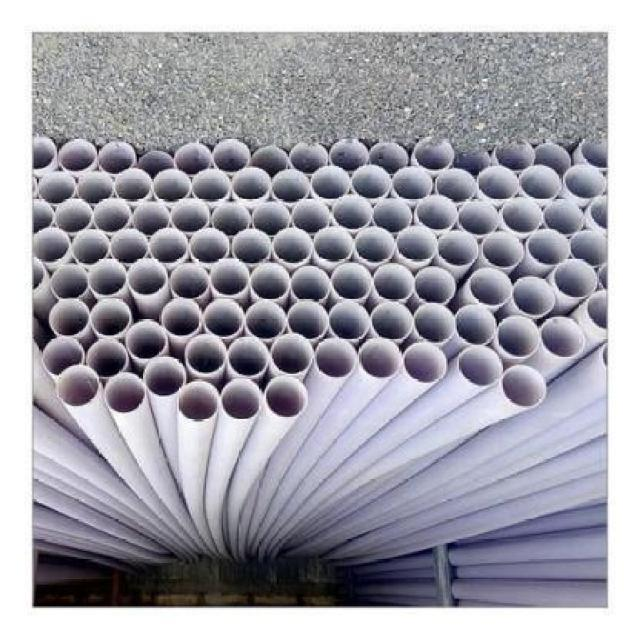pipe: (502, 365, 547, 408), (495, 314, 540, 357), (540, 315, 585, 357), (103, 372, 146, 414), (56, 365, 99, 407), (125, 318, 168, 360), (459, 346, 504, 386), (359, 339, 404, 379), (222, 378, 264, 420), (266, 375, 308, 417), (288, 298, 330, 340), (552, 260, 597, 299), (179, 380, 220, 422), (403, 343, 446, 383), (314, 339, 357, 379), (185, 334, 227, 374), (271, 334, 313, 374), (414, 303, 456, 343), (511, 277, 554, 316), (470, 266, 513, 305), (328, 302, 370, 341), (371, 302, 413, 341), (245, 302, 287, 341), (89, 297, 131, 336), (249, 262, 291, 301), (143, 357, 186, 395), (42, 337, 85, 375), (526, 229, 571, 265), (456, 305, 496, 345), (87, 338, 128, 377), (204, 298, 245, 337), (161, 298, 202, 337), (416, 194, 459, 231), (374, 263, 414, 302), (331, 262, 371, 301), (228, 337, 269, 375), (48, 299, 90, 336), (414, 266, 456, 303), (395, 225, 437, 262), (482, 232, 525, 268), (437, 229, 480, 265), (457, 200, 499, 236), (520, 165, 562, 201), (563, 164, 606, 199), (354, 228, 396, 263), (500, 197, 542, 232), (434, 168, 476, 203), (169, 262, 208, 299), (289, 266, 329, 302), (86, 260, 126, 296), (128, 260, 168, 296), (209, 260, 249, 296), (314, 226, 354, 262), (542, 200, 584, 234), (391, 166, 433, 200), (477, 166, 519, 200), (33, 226, 71, 263), (132, 200, 171, 236), (108, 228, 148, 263), (231, 228, 271, 263), (189, 228, 229, 263), (273, 228, 313, 263), (189, 169, 231, 202), (412, 138, 454, 171), (569, 231, 606, 268), (149, 228, 188, 263), (373, 199, 413, 233), (333, 196, 373, 230), (271, 169, 311, 203), (151, 169, 191, 203), (311, 166, 351, 200), (351, 165, 391, 199), (71, 229, 108, 265), (49, 265, 88, 299), (252, 202, 291, 236), (92, 199, 131, 233), (54, 199, 93, 233), (37, 171, 76, 205), (231, 166, 270, 200), (212, 139, 251, 173), (211, 203, 251, 236), (169, 200, 209, 233), (368, 141, 408, 174), (291, 200, 330, 233), (75, 171, 114, 204), (114, 169, 153, 202), (97, 141, 136, 174), (289, 141, 328, 174), (58, 138, 97, 171), (330, 138, 368, 171), (494, 140, 534, 171), (174, 143, 211, 176), (534, 143, 571, 176), (251, 145, 288, 176), (137, 152, 174, 180), (453, 148, 490, 176), (585, 289, 608, 331), (31, 137, 56, 170), (32, 200, 54, 233)
